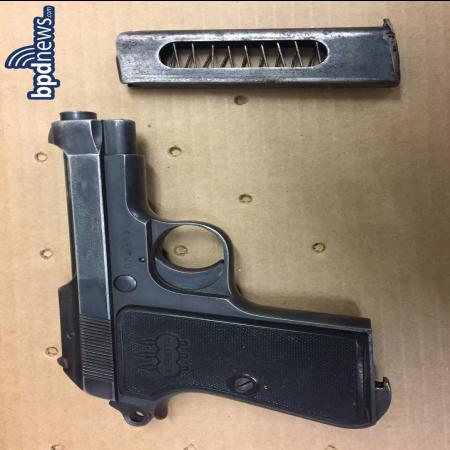Pistol: (49, 109, 392, 430)
